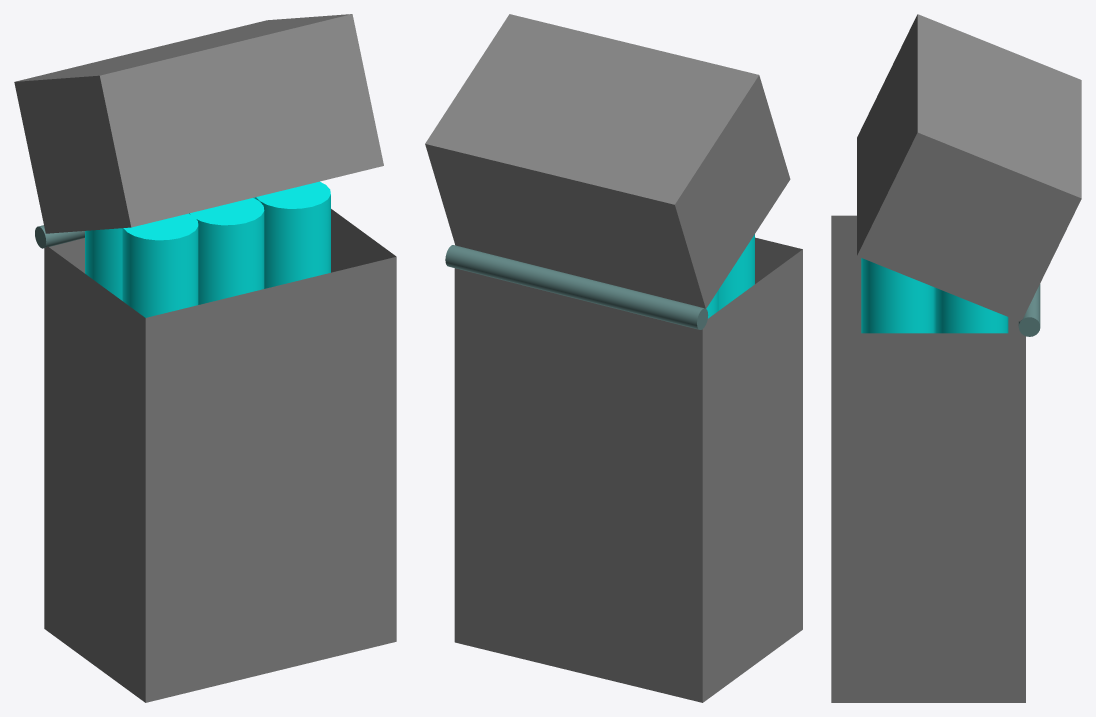
File: bullets_model2.fbx
3 views of the same model, side by side, from view 1: azimuth 30°, elevation 25°; view 2: azimuth 150°, elevation 25°; view 3: azimuth 270°, elevation 25° (orthographic). The views are drawn at different scales.
Parts seen in each view (by area): view 1: pCylinder10; view 2: pCylinder10; view 3: pCylinder10.
Part boxes in pixels (left/top/right/bottom): pCylinder10: left=14, top=14, right=396, bottom=702; pCylinder10: left=425, top=14, right=802, bottom=702; pCylinder10: left=831, top=14, right=1081, bottom=702.
Bounding box in the file's own units: 2.72 × 6.08 × 2.42.
Materials: 1 (1 with a texture image).
